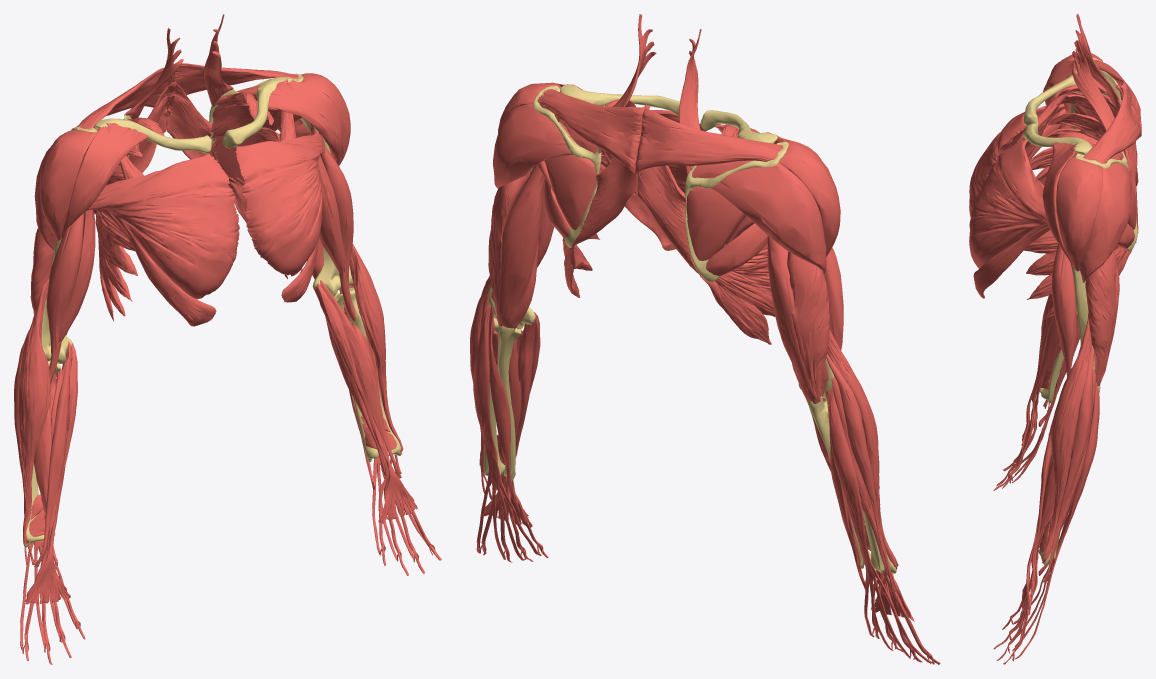
3 views of the same model, side by side, from view 1: azimuth 30°, elevation 25°; view 2: azimuth 150°, elevation 25°; view 3: azimuth 270°, elevation 25° (orthographic). The views are drawn at different scales.
Parts seen in each view (by area): view 1: spine-trunk:pectoralis-major:isa:FJ1464, spine-trunk:pectoralis-major:isa:FJ1464M, elbow-forearm:brachioradialis:isa:FJ1487, shoulder:deltoid:isa:FJ1468, shoulder:deltoid:isa:FJ1467, shoulder:serratus-anterior:isa:FJ1459, elbow-forearm:biceps-brachii:isa:FJ1478, shoulder:deltoid:isa:FJ1468M, wrist-hand:palmaris-longus:isa:FJ1502M, elbow-forearm:brachioradialis:isa:FJ1487M, wrist-hand:palmaris-longus:isa:FJ1502, spine-trunk:pectoralis-major:isa:FJ1446 (+29 smaller); view 2: shoulder:deltoid:isa:FJ1513, shoulder:trapezius:isa:FJ1554, elbow-forearm:triceps-brachii:isa:FJ1479M, shoulder:trapezius:isa:FJ1554M, elbow-forearm:triceps-brachii:isa:FJ1477, shoulder:deltoid:isa:FJ1513M, shoulder:serratus-anterior:isa:FJ1459, elbow-forearm:extensor-digitorum:isa:FJ1492, elbow-forearm:extensor-digitorum:isa:FJ1492M, shoulder:infraspinatus:isa:FJ1500, shoulder:rhomboid-major:isa:FJ1536, shoulder:deltoid:isa:FJ1467 (+28 smaller); view 3: spine-trunk:pectoralis-major:isa:FJ1464M, shoulder:deltoid:isa:FJ1467M, elbow-forearm:brachioradialis:isa:FJ1487M, shoulder:deltoid:isa:FJ1513M, elbow-forearm:triceps-brachii:isa:FJ1477M, elbow-forearm:biceps-brachii:isa:FJ1478M, shoulder:serratus-anterior:isa:FJ1459, shoulder:serratus-anterior:isa:FJ1459M, elbow-forearm:extensor-digitorum:isa:FJ1492M, elbow-forearm:extensor-carpi-radialis-longus:isa:FJ1490M, spine-trunk:pectoralis-major:isa:FJ1464, shoulder:trapezius:isa:FJ1554M (+25 smaller).
Part boxes in pixels (bbox=[...]): spine-trunk:pectoralis-major:isa:FJ1464: bbox=[86, 153, 239, 299]; spine-trunk:pectoralis-major:isa:FJ1464M: bbox=[235, 132, 325, 276]; elbow-forearm:brachioradialis:isa:FJ1487: bbox=[18, 279, 50, 545]; shoulder:deltoid:isa:FJ1468: bbox=[61, 123, 148, 238]; shoulder:deltoid:isa:FJ1467: bbox=[39, 129, 97, 240]; shoulder:serratus-anterior:isa:FJ1459: bbox=[95, 117, 164, 321]; elbow-forearm:biceps-brachii:isa:FJ1478: bbox=[46, 213, 83, 383]; shoulder:deltoid:isa:FJ1468M: bbox=[268, 79, 342, 164]; wrist-hand:palmaris-longus:isa:FJ1502M: bbox=[316, 283, 417, 523]; elbow-forearm:brachioradialis:isa:FJ1487M: bbox=[349, 244, 403, 454]; wrist-hand:palmaris-longus:isa:FJ1502: bbox=[25, 343, 77, 604]; spine-trunk:pectoralis-major:isa:FJ1446: bbox=[100, 209, 216, 326]; shoulder:deltoid:isa:FJ1513: bbox=[711, 162, 826, 273]; shoulder:trapezius:isa:FJ1554: bbox=[635, 104, 783, 174]; elbow-forearm:triceps-brachii:isa:FJ1479M: bbox=[497, 164, 544, 328]; shoulder:trapezius:isa:FJ1554M: bbox=[537, 89, 650, 174]; elbow-forearm:triceps-brachii:isa:FJ1477: bbox=[787, 251, 829, 403]; shoulder:deltoid:isa:FJ1513M: bbox=[492, 103, 572, 188]; shoulder:serratus-anterior:isa:FJ1459: bbox=[689, 124, 775, 344]; elbow-forearm:extensor-digitorum:isa:FJ1492: bbox=[829, 388, 932, 663]; elbow-forearm:extensor-digitorum:isa:FJ1492M: bbox=[473, 304, 541, 560]; shoulder:infraspinatus:isa:FJ1500: bbox=[686, 186, 745, 260]; shoulder:rhomboid-major:isa:FJ1536: bbox=[637, 165, 704, 278]; shoulder:deltoid:isa:FJ1467: bbox=[779, 141, 840, 256]; spine-trunk:pectoralis-major:isa:FJ1464M: bbox=[969, 139, 1047, 268]; shoulder:deltoid:isa:FJ1467M: bbox=[1056, 156, 1102, 271]; elbow-forearm:brachioradialis:isa:FJ1487M: bbox=[1041, 314, 1091, 563]; shoulder:deltoid:isa:FJ1513M: bbox=[1079, 163, 1131, 282]; elbow-forearm:triceps-brachii:isa:FJ1477M: bbox=[1085, 252, 1118, 386]; elbow-forearm:biceps-brachii:isa:FJ1478M: bbox=[1051, 245, 1077, 377]; shoulder:serratus-anterior:isa:FJ1459: bbox=[1029, 85, 1118, 181]; shoulder:serratus-anterior:isa:FJ1459M: bbox=[1024, 131, 1136, 327]; elbow-forearm:extensor-digitorum:isa:FJ1492M: bbox=[1012, 383, 1099, 659]; elbow-forearm:extensor-carpi-radialis-longus:isa:FJ1490M: bbox=[1043, 347, 1093, 582]; spine-trunk:pectoralis-major:isa:FJ1464: bbox=[969, 103, 1064, 217]; shoulder:trapezius:isa:FJ1554M: bbox=[1083, 85, 1141, 163].
Bounding box in the file's own units: 0.6139 × 0.803 × 0.2301.
